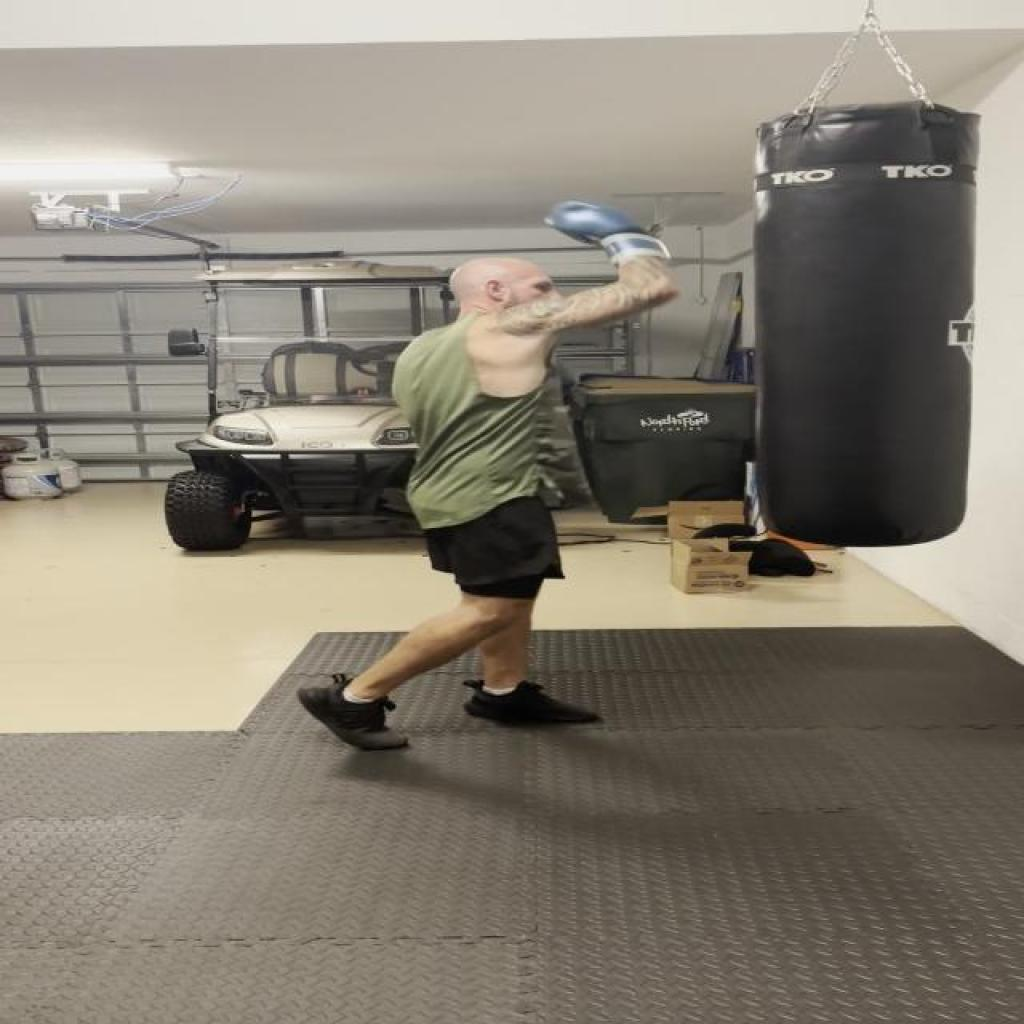bag: (744, 91, 997, 552)
uppercut: (403, 197, 690, 382)
